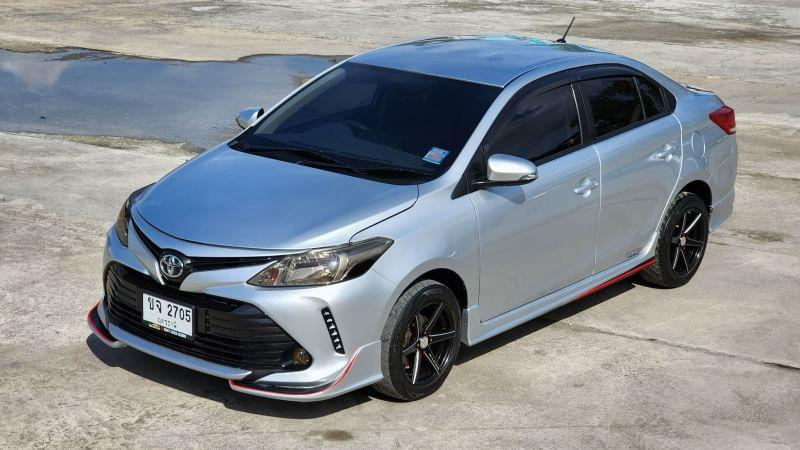license-plate: (132, 280, 205, 352)
